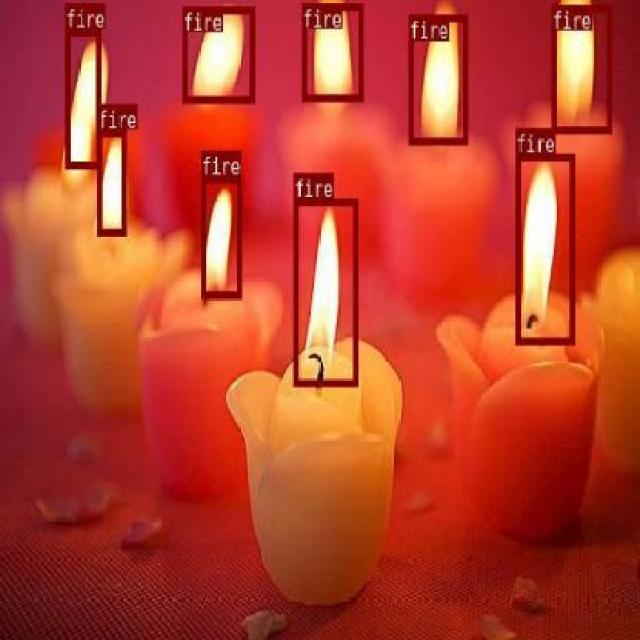fire: (292, 198, 357, 384), (514, 152, 574, 343), (408, 13, 467, 142), (552, 3, 610, 132), (182, 5, 253, 101), (300, 3, 362, 100), (199, 175, 241, 296), (64, 28, 100, 168), (96, 129, 125, 234)
